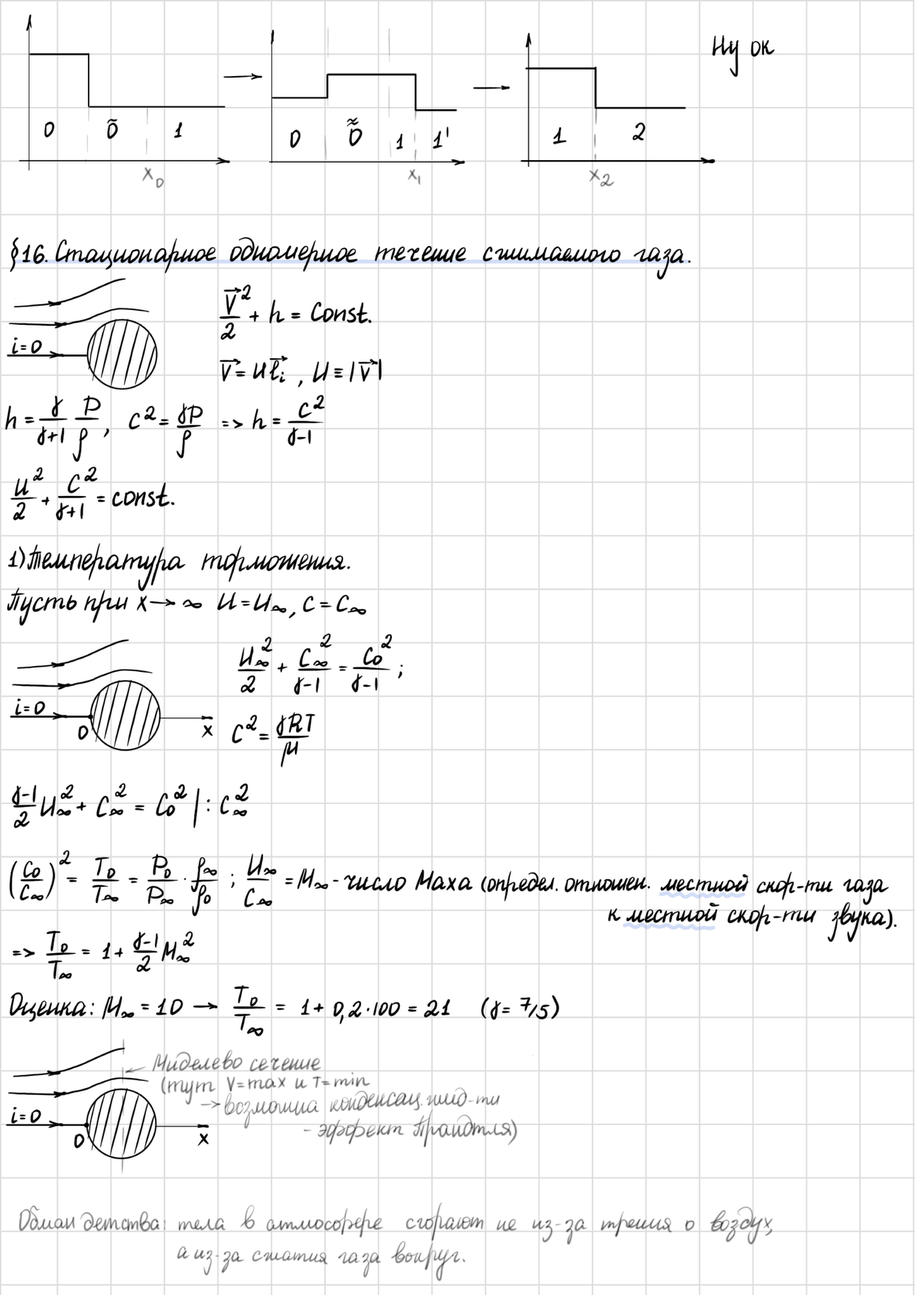formula: (99, 984, 565, 1037), (0, 395, 326, 462), (8, 775, 263, 839), (227, 633, 409, 698), (6, 925, 203, 982), (7, 464, 178, 528), (213, 282, 377, 345), (214, 348, 393, 393), (132, 593, 364, 623), (229, 710, 319, 771)
picture: (16, 13, 713, 205), (4, 1042, 215, 1168), (0, 637, 216, 751), (5, 281, 160, 391)
text: (332, 854, 902, 950), (7, 227, 701, 280), (7, 847, 328, 922), (8, 538, 358, 589), (9, 589, 129, 623), (8, 985, 97, 1029)
